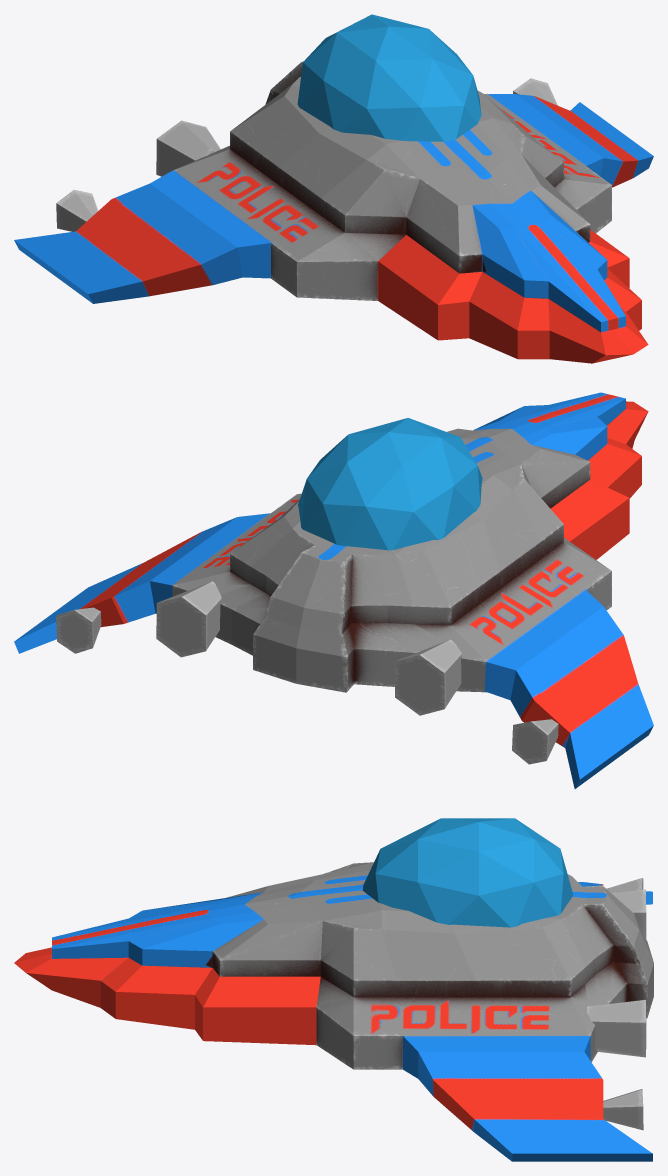
The model's file is PandoraFinal.fbx.
The picture shows the model from 3 angles, top to bottom: view 1: azimuth 30°, elevation 25°; view 2: azimuth 150°, elevation 25°; view 3: azimuth 270°, elevation 25°; orthographic projection. The views are drawn at different scales.
Parts seen in each view (by area): view 1: Cuerpo, Capsula, Motores; view 2: Cuerpo, Capsula, Motores; view 3: Cuerpo, Capsula, Motores.
Part boxes in pixels (<box>): Cuerpo: <box>14,61,653,363</box>; Capsula: <box>297,14,481,141</box>; Motores: <box>56,78,557,231</box>; Cuerpo: <box>14,392,653,788</box>; Capsula: <box>298,418,482,550</box>; Motores: <box>56,581,558,764</box>; Cuerpo: <box>14,862,653,1161</box>; Capsula: <box>362,818,573,927</box>; Motores: <box>586,878,646,1130</box>.
Bounding box in the file's own units: 286 × 107 × 295.
